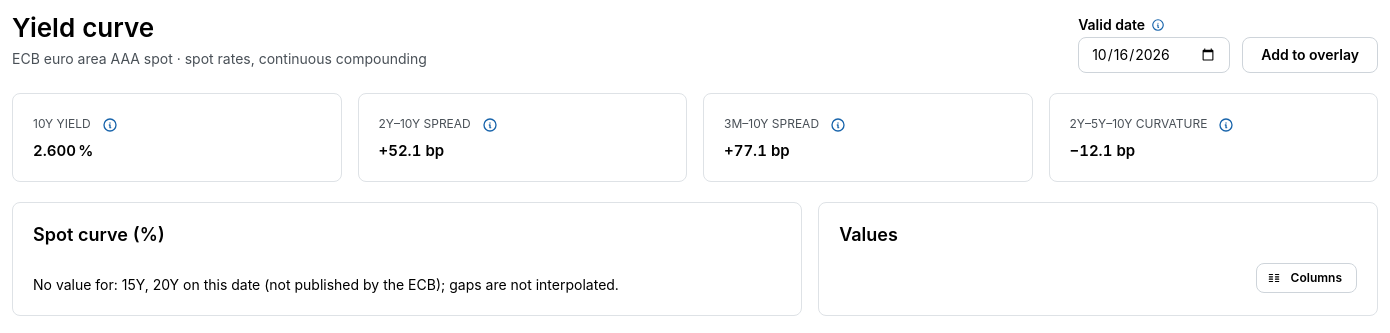
Test: CurveView › shows an empty state for a date without data and keeps the requested date
Type "2026-09-01" into the date field labelled "Valid date".
click(1154, 55); type("2026-09-01")  # box x1=1078 y1=37 x2=1230 y2=73
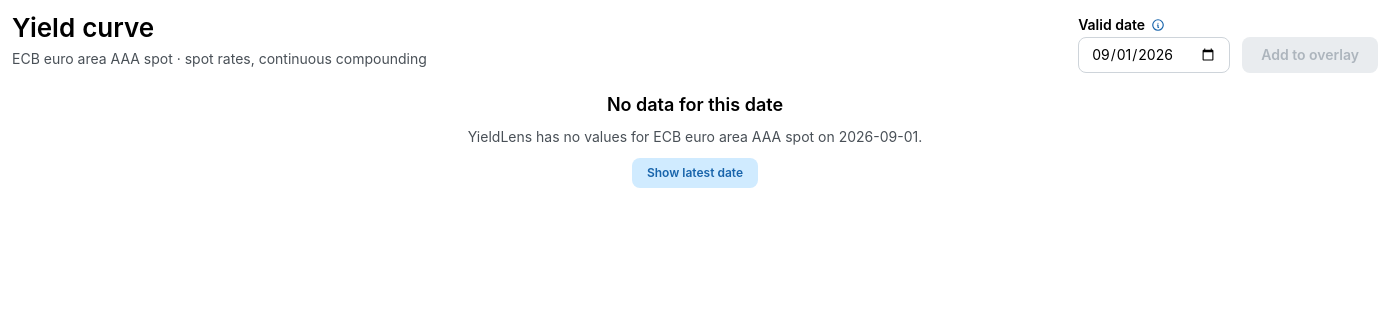
Expected: the text "No data for this date" is shown, x1=607 y1=93 x2=783 y2=116
Expected: the message shows "No data for this date", x1=607 y1=94 x2=783 y2=115
Click the button "Show latest date".
click(695, 173)  # box x1=632 y1=158 x2=758 y2=188
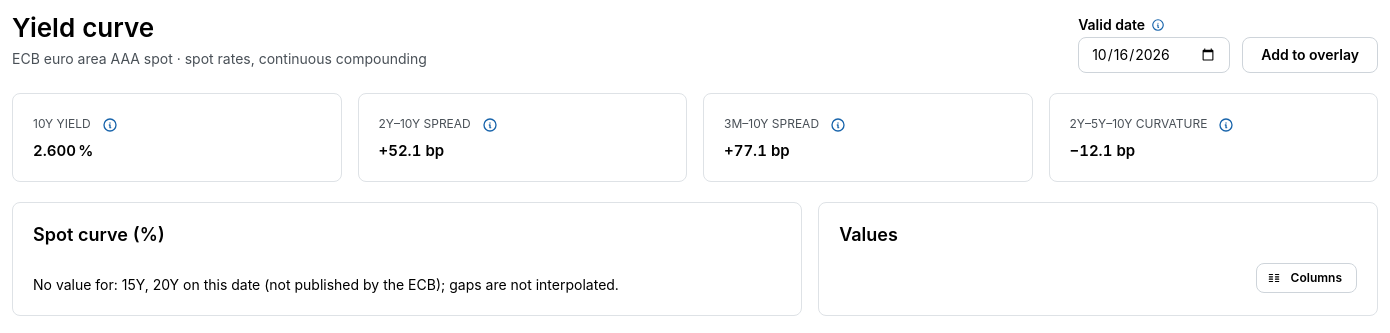
Expected: the text "No data for this date" is gone
Expected: the date field labelled "Valid date" holds "2026-10-16", x1=1078 y1=37 x2=1230 y2=73
